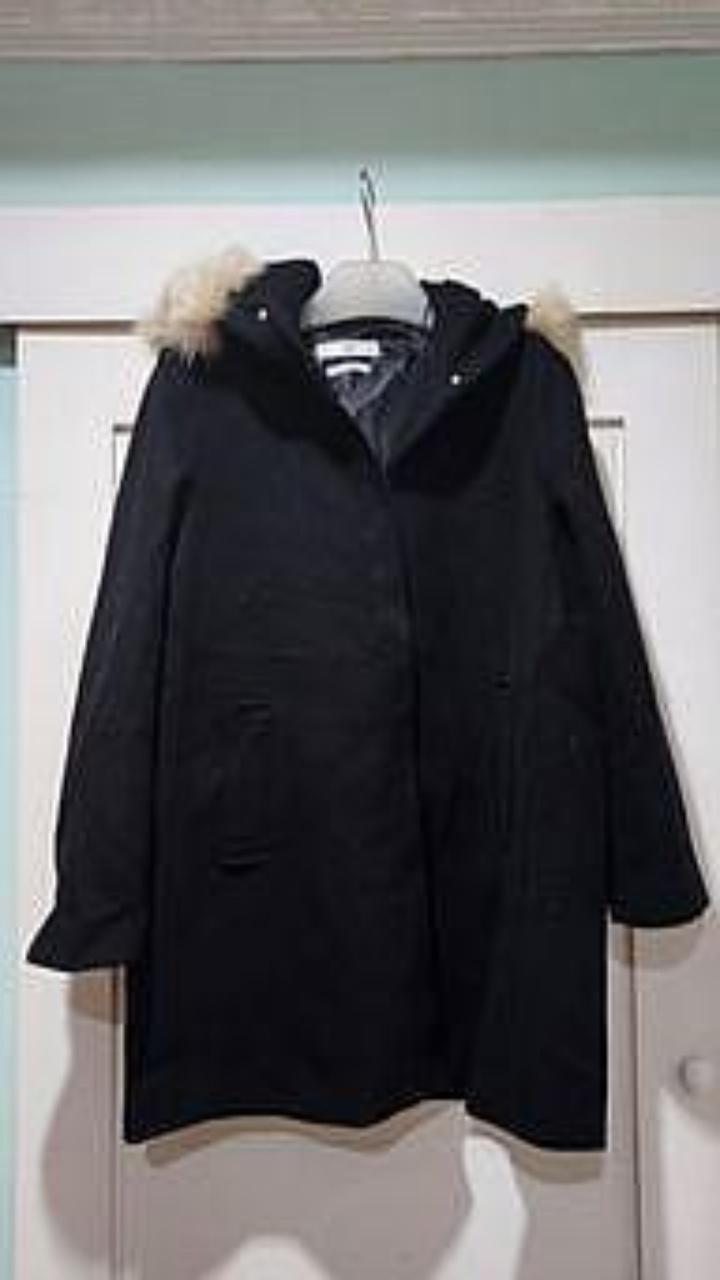Coat: (26, 246, 708, 1148)
